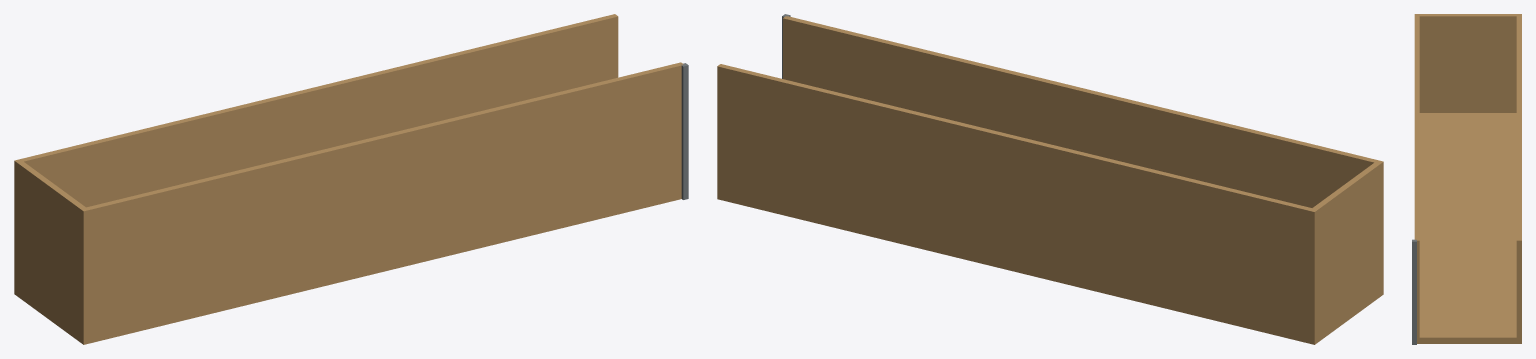
Rendered from open-top-40-lod0.glb.
3 renders of one model, left to right at view 1: azimuth 30°, elevation 25°; view 2: azimuth 150°, elevation 25°; view 3: azimuth 270°, elevation 25°, orthographic. The views are drawn at different scales.
Parts seen in each view (by area): view 1: side-b, side-a, end, floor, corner; view 2: side-a, side-b, end, floor; view 3: floor, end, side-a, side-b, corner.
Part boxes in pixels (box(x1,y1,x2,y2)): side-b: box(80, 62, 683, 344); side-a: box(14, 14, 618, 296); end: box(14, 159, 89, 344); floor: box(15, 191, 681, 342); corner: box(681, 63, 688, 199); side-a: box(717, 64, 1317, 344); side-b: box(783, 16, 1383, 293); end: box(1309, 160, 1383, 343); floor: box(717, 191, 1383, 343); floor: box(1417, 113, 1521, 343); end: box(1414, 14, 1520, 112); side-a: box(1516, 14, 1521, 343); side-b: box(1414, 14, 1419, 343); corner: box(1412, 239, 1416, 344).
Size of the model in its own units: 12.24 by 2.59 by 2.5.
